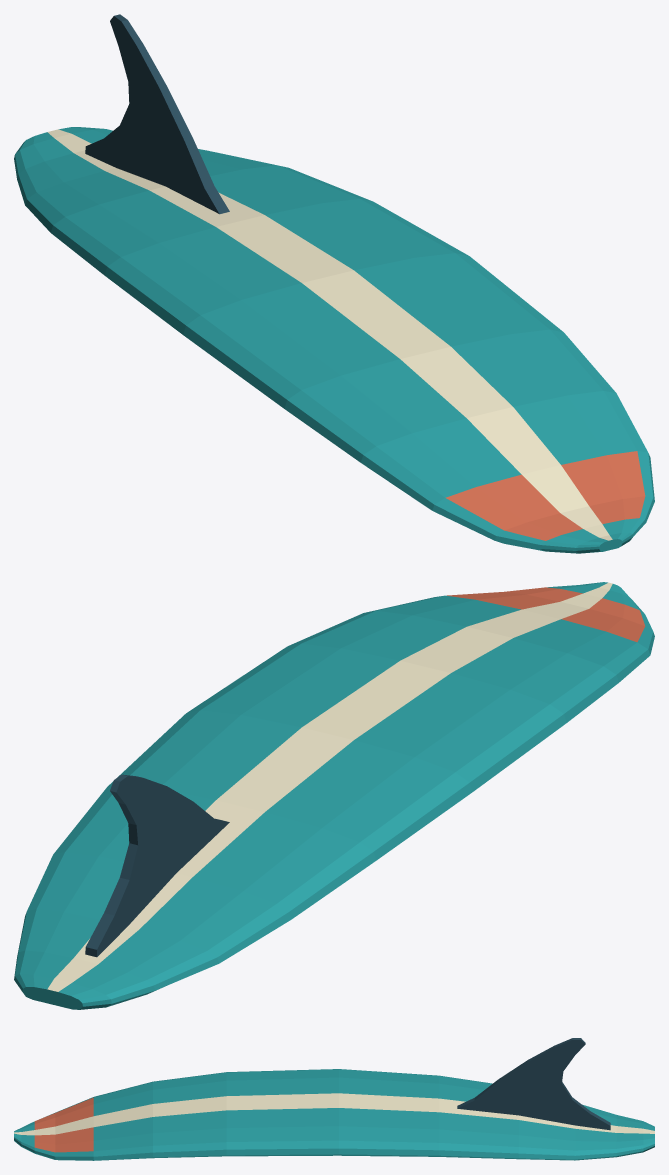
3 views of the same model, one above another, from view 1: azimuth 30°, elevation 25°; view 2: azimuth 150°, elevation 25°; view 3: azimuth 270°, elevation 25° (orthographic). The views are drawn at different scales.
Visible parts, largest first — view 1: Board_ContinuousWideBody, Fin_ThickSweptSingle; view 2: Board_ContinuousWideBody, Fin_ThickSweptSingle; view 3: Board_ContinuousWideBody, Fin_ThickSweptSingle.
Boxes of the visible parts, x1,y1,x2,y2 form: Board_ContinuousWideBody: [14, 127, 654, 553]; Fin_ThickSweptSingle: [85, 14, 229, 214]; Board_ContinuousWideBody: [14, 582, 654, 1009]; Fin_ThickSweptSingle: [85, 774, 229, 957]; Board_ContinuousWideBody: [14, 1069, 654, 1160]; Fin_ThickSweptSingle: [457, 1038, 610, 1130].
Bounding box in the file's own units: 0.65 × 0.382 × 2.17.
